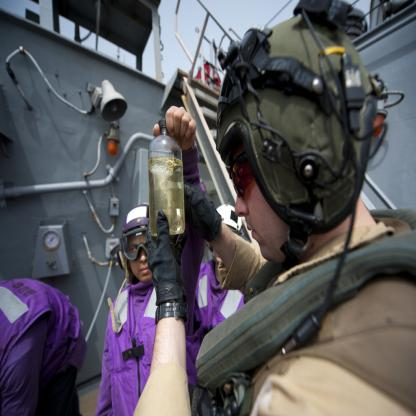Helmet: (211, 18, 391, 244), (102, 200, 160, 288)
